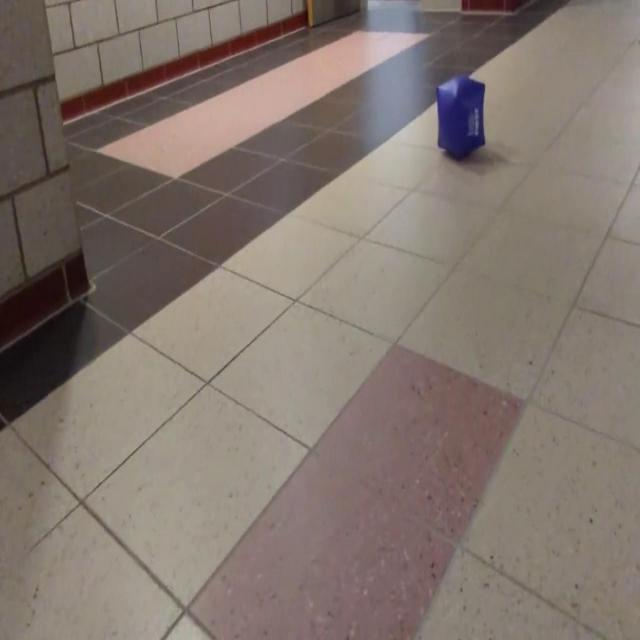frc_cube: (435, 77, 485, 161)
